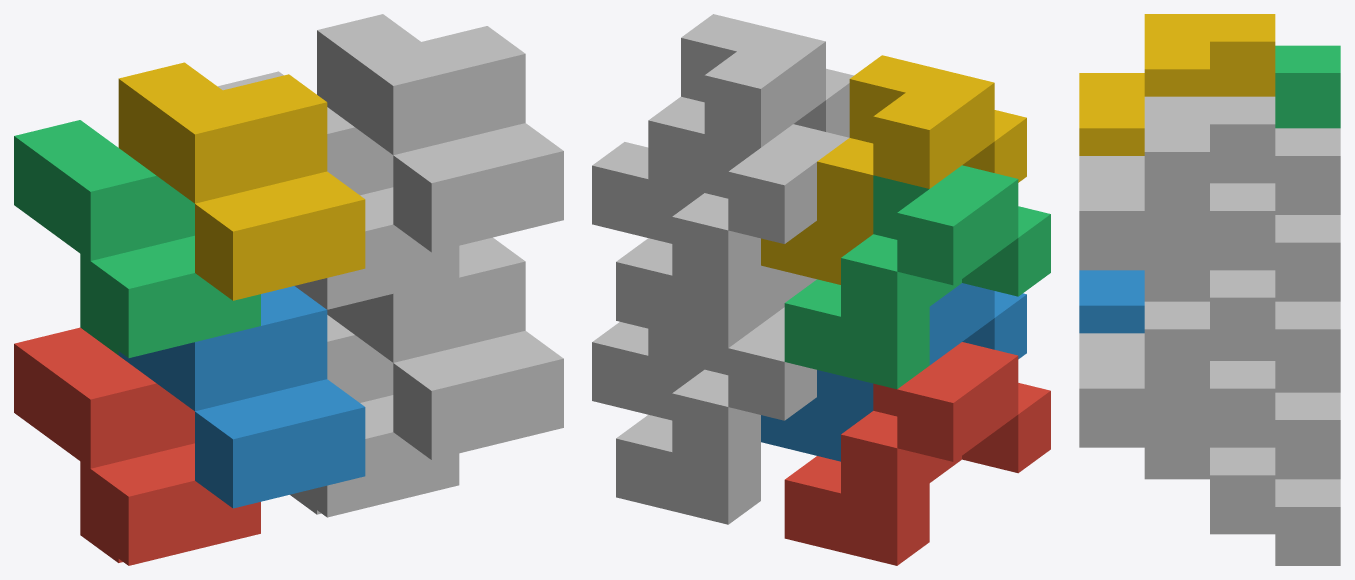
File: tiling.obj
3 renders of one model, left to right at view 1: azimuth 30°, elevation 25°; view 2: azimuth 150°, elevation 25°; view 3: azimuth 270°, elevation 25°, orthographic. The views are drawn at different scales.
Visible parts, largest first — view 1: copy_1_domain_4, copy_1_domain_8, copy_1_domain_1, copy_1_domain_3, copy_1_domain_2, copy_1_domain_6, copy_1_domain_7, copy_1_domain_5; view 2: copy_1_domain_3, copy_1_domain_1, copy_1_domain_8, copy_1_domain_7, copy_1_domain_4, copy_1_domain_5, copy_1_domain_2, copy_1_domain_6; view 3: copy_1_domain_8, copy_1_domain_6, copy_1_domain_7, copy_1_domain_4, copy_1_domain_5, copy_1_domain_3, copy_1_domain_2.
Boxes of the visible parts, bbox=[...] form: copy_1_domain_4: bbox=[118, 62, 365, 300]; copy_1_domain_8: bbox=[317, 14, 563, 252]; copy_1_domain_1: bbox=[14, 327, 260, 565]; copy_1_domain_3: bbox=[14, 120, 260, 357]; copy_1_domain_2: bbox=[118, 286, 365, 508]; copy_1_domain_6: bbox=[327, 237, 563, 459]; copy_1_domain_7: bbox=[218, 71, 459, 309]; copy_1_domain_5: bbox=[290, 315, 459, 517]; copy_1_domain_3: bbox=[784, 165, 1050, 389]; copy_1_domain_1: bbox=[784, 342, 1050, 565]; copy_1_domain_8: bbox=[592, 14, 853, 243]; copy_1_domain_7: bbox=[616, 124, 849, 347]; copy_1_domain_4: bbox=[761, 55, 1026, 284]; copy_1_domain_5: bbox=[616, 307, 816, 524]; copy_1_domain_2: bbox=[761, 283, 1026, 461]; copy_1_domain_6: bbox=[592, 265, 816, 420]; copy_1_domain_8: bbox=[1079, 96, 1275, 356]; copy_1_domain_6: bbox=[1079, 301, 1275, 534]; copy_1_domain_7: bbox=[1144, 128, 1340, 388]; copy_1_domain_4: bbox=[1079, 14, 1275, 155]; copy_1_domain_5: bbox=[1144, 388, 1340, 565]; copy_1_domain_3: bbox=[1275, 45, 1340, 128]; copy_1_domain_2: bbox=[1079, 270, 1144, 333].
Size of the model in its own units: 7 by 7 by 4.
